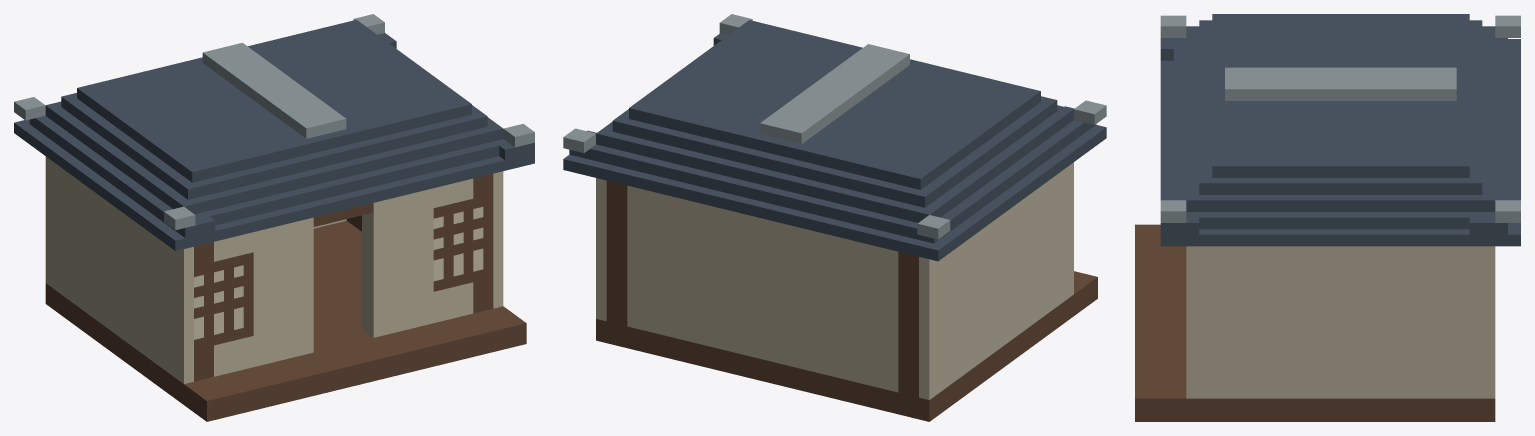
The model's file is house.glb.
3 views of the same model, side by side, from view 1: azimuth 30°, elevation 25°; view 2: azimuth 150°, elevation 25°; view 3: azimuth 270°, elevation 25° (orthographic). The views are drawn at different scales.
Visible parts, largest first — view 1: Shell; view 2: Shell; view 3: Shell.
Part boxes in pixels (bbox=[...]): Shell: bbox=[14, 14, 534, 421]; Shell: bbox=[563, 14, 1106, 421]; Shell: bbox=[1135, 14, 1520, 421].
Bounding box in the file's own units: 4.5 × 2.75 × 3.75.
